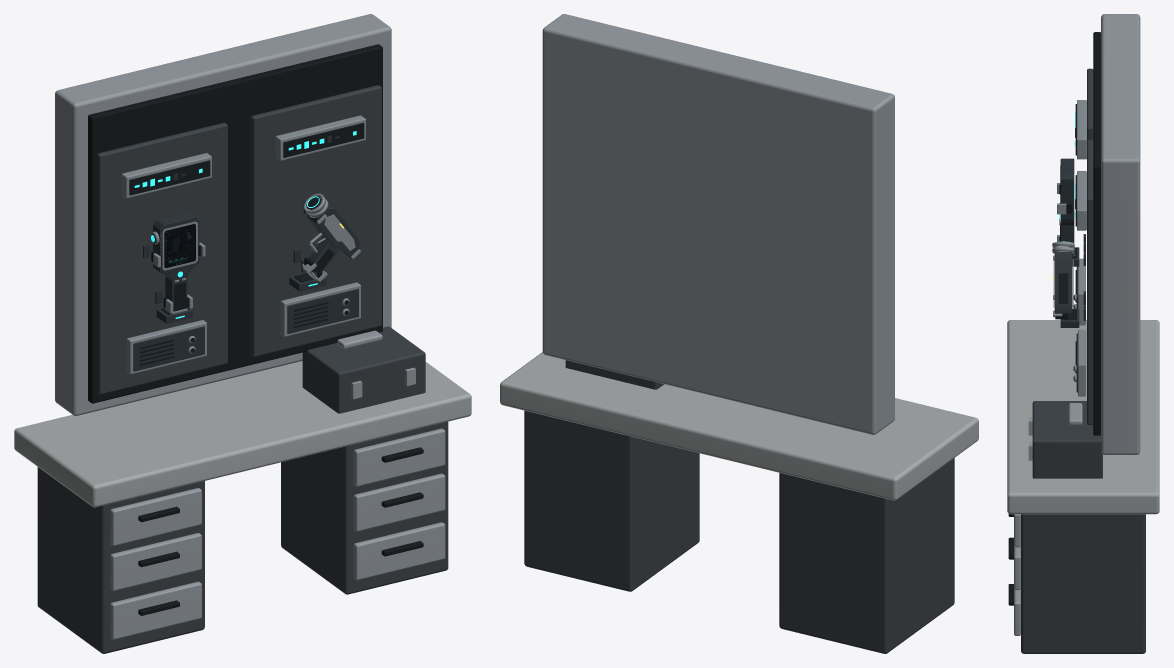
Rendered from ZH_ENV_MAINTENANCE_STATION.fbx.
3 renders of one model, left to right at view 1: azimuth 30°, elevation 25°; view 2: azimuth 150°, elevation 25°; view 3: azimuth 270°, elevation 25°, orthographic. The views are drawn at different scales.
Visible parts, largest first — view 1: Maintenance | worktop.001, Equipment dock | armored surround.001, Equipment dock | bay.003, Equipment dock | bay.002, Equipment dock | backing.001, Maintenance | drawer pedestal.002, Maintenance | drawer pedestal.003, Portable service case.001, Maintenance | drawer.010, Maintenance | drawer.011, Maintenance | drawer.009, Maintenance | drawer.006 (+13 smaller); view 2: Equipment dock | armored surround.001, Maintenance | worktop.001, Maintenance | drawer pedestal.002, Maintenance | drawer pedestal.003, Portable service case.001; view 3: Equipment dock | armored surround.001, Maintenance | drawer pedestal.003, Maintenance | worktop.001, Portable service case.001, Equipment dock | backing.001, Equipment dock | bay.003, Docked | Scanner | continuous body.001, Docked | Pulse | swept receiver.001, DockPanel | Left status bezel.001, DockPanel | Right status bezel.001, DockPanel | Right service rim.001, Equipment dock | bay.002 (+5 smaller).
Part boxes in pixels (box(x1,y1,x2,y2)): Maintenance | worktop.001: box(14, 361, 471, 507); Equipment dock | armored surround.001: box(55, 14, 391, 415); Equipment dock | bay.003: box(250, 85, 381, 356); Equipment dock | bay.002: box(97, 122, 227, 394); Equipment dock | backing.001: box(88, 44, 382, 403); Maintenance | drawer pedestal.002: box(37, 467, 204, 653); Maintenance | drawer pedestal.003: box(281, 421, 448, 594); Portable service case.001: box(302, 326, 425, 413); Maintenance | drawer.010: box(353, 473, 445, 531); Maintenance | drawer.011: box(353, 428, 445, 486); Maintenance | drawer.009: box(353, 522, 445, 580); Maintenance | drawer.006: box(110, 581, 201, 639); Equipment dock | armored surround.001: box(542, 14, 894, 434); Maintenance | worktop.001: box(500, 352, 978, 500); Maintenance | drawer pedestal.002: box(779, 458, 954, 653); Maintenance | drawer pedestal.003: box(524, 410, 699, 591); Portable service case.001: box(565, 360, 663, 389); Equipment dock | armored surround.001: box(1101, 14, 1140, 454); Maintenance | drawer pedestal.003: box(1021, 514, 1145, 653); Maintenance | worktop.001: box(1007, 320, 1159, 514); Portable service case.001: box(1032, 401, 1102, 478); Equipment dock | backing.001: box(1093, 32, 1100, 435); Equipment dock | bay.003: box(1087, 139, 1093, 424); Docked | Scanner | continuous body.001: box(1060, 158, 1074, 256); Docked | Pulse | swept receiver.001: box(1054, 251, 1072, 314); DockPanel | Left status bezel.001: box(1077, 100, 1086, 159); DockPanel | Right status bezel.001: box(1077, 171, 1086, 230); DockPanel | Right service rim.001: box(1078, 329, 1085, 396); Equipment dock | bay.002: box(1087, 68, 1093, 140).
Size of the model in its own units: 2.12 by 2.76 by 0.78.
10 materials, 1 textured.
